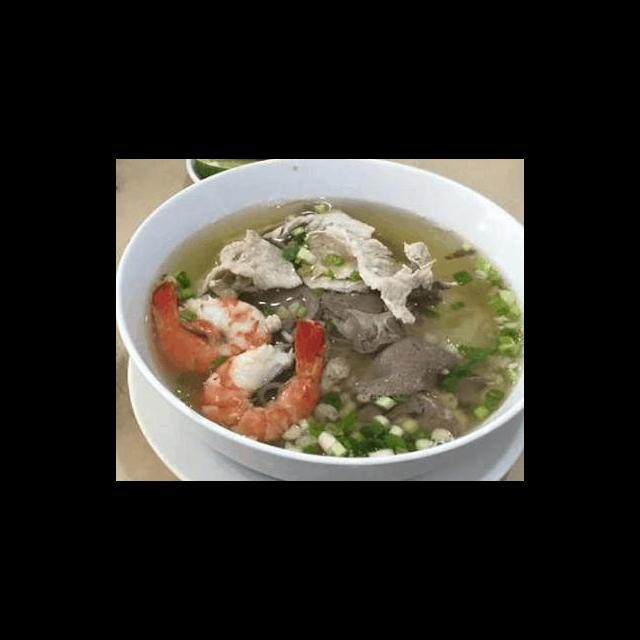gan: (346, 334, 466, 402)
thit heo: (292, 224, 441, 329), (184, 227, 306, 306), (258, 206, 381, 252)
tom: (197, 314, 330, 446), (146, 278, 278, 381)
